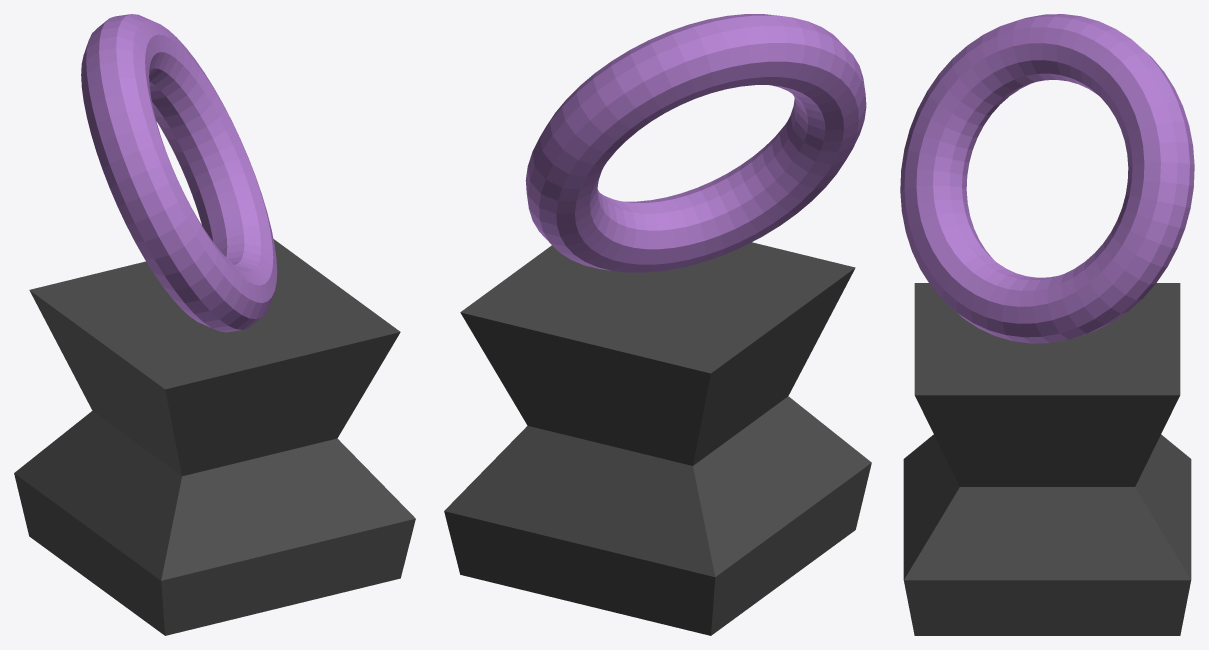
3 views of the same model, side by side, from view 1: azimuth 30°, elevation 25°; view 2: azimuth 150°, elevation 25°; view 3: azimuth 270°, elevation 25° (orthographic). The views are drawn at different scales.
Visible parts, largest first — view 1: pedistal, ring; view 2: pedistal, ring; view 3: pedistal, ring.
Part boxes in pixels (x1,y1,x2,y2): pedistal: [14, 239, 415, 635]; ring: [81, 14, 277, 332]; pedistal: [444, 242, 871, 635]; ring: [525, 14, 866, 272]; pedistal: [903, 283, 1191, 635]; ring: [900, 14, 1194, 343].
Bounding box in the file's own units: 2.32 × 2.22 × 4.32.
